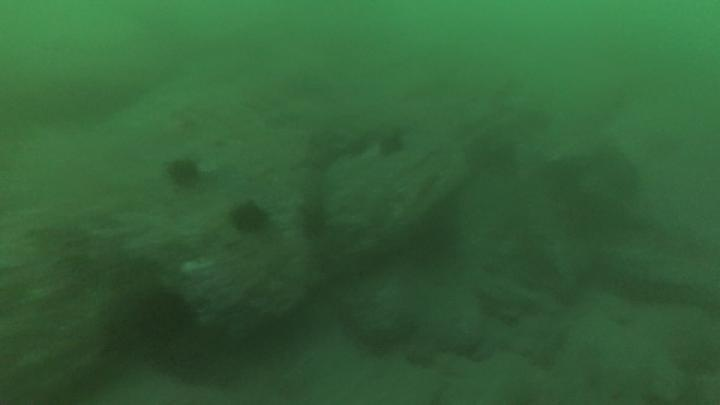echinus: (129, 288, 195, 348), (404, 213, 459, 269), (228, 199, 271, 236), (164, 155, 203, 190), (376, 129, 408, 160)
